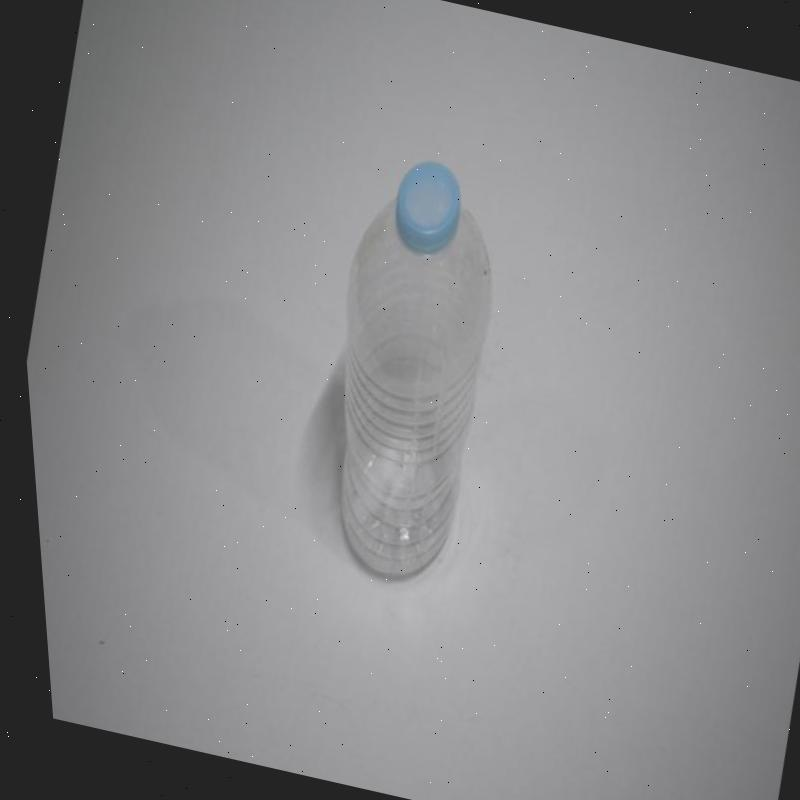botella: (268, 142, 532, 596)
